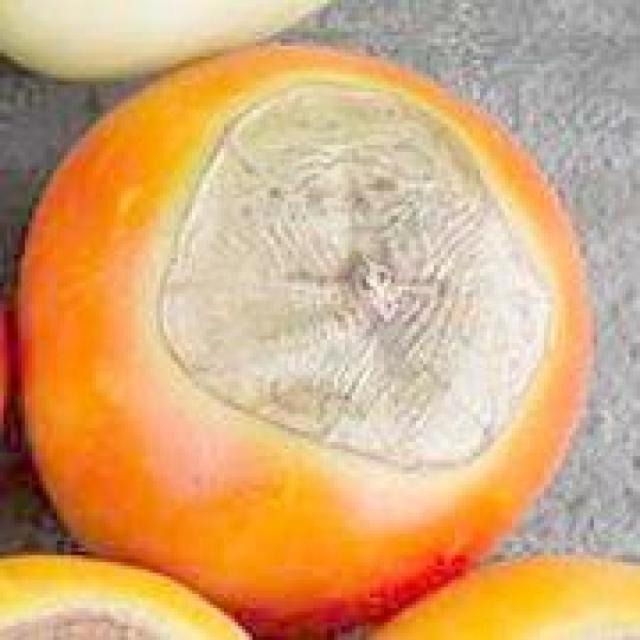Blossom End Rot Fruit: (77, 29, 282, 412)
